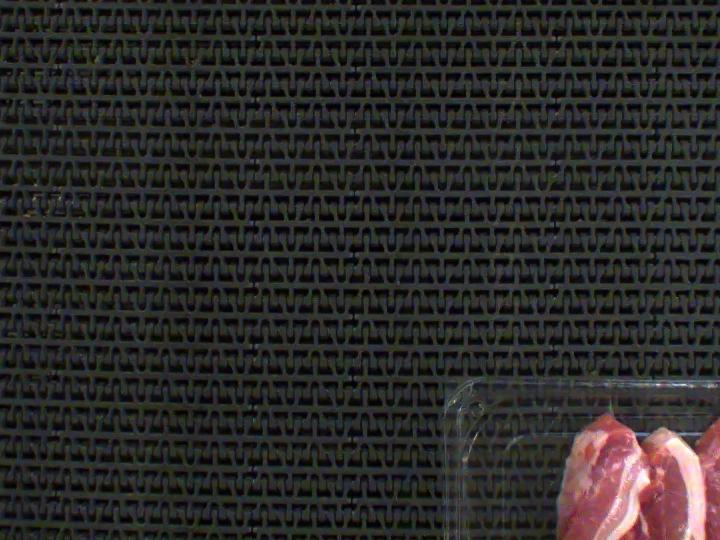packaging-error: (598, 392, 620, 418)
